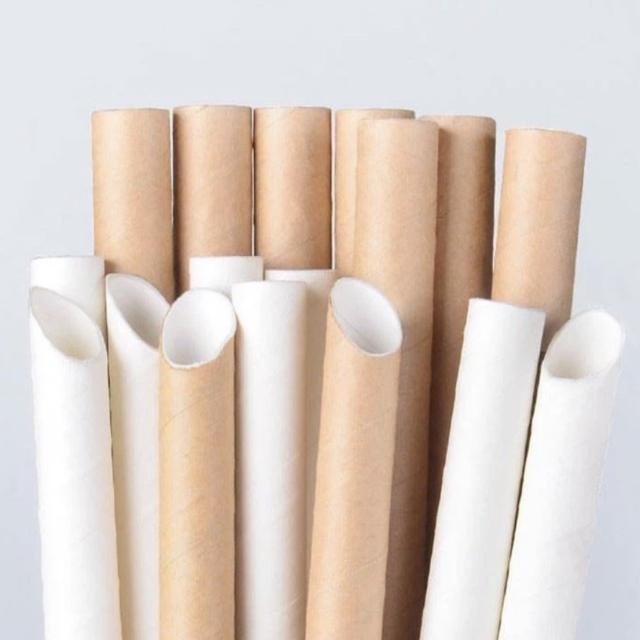biodegradable: (339, 81, 451, 640), (306, 239, 410, 640), (151, 276, 251, 640)
